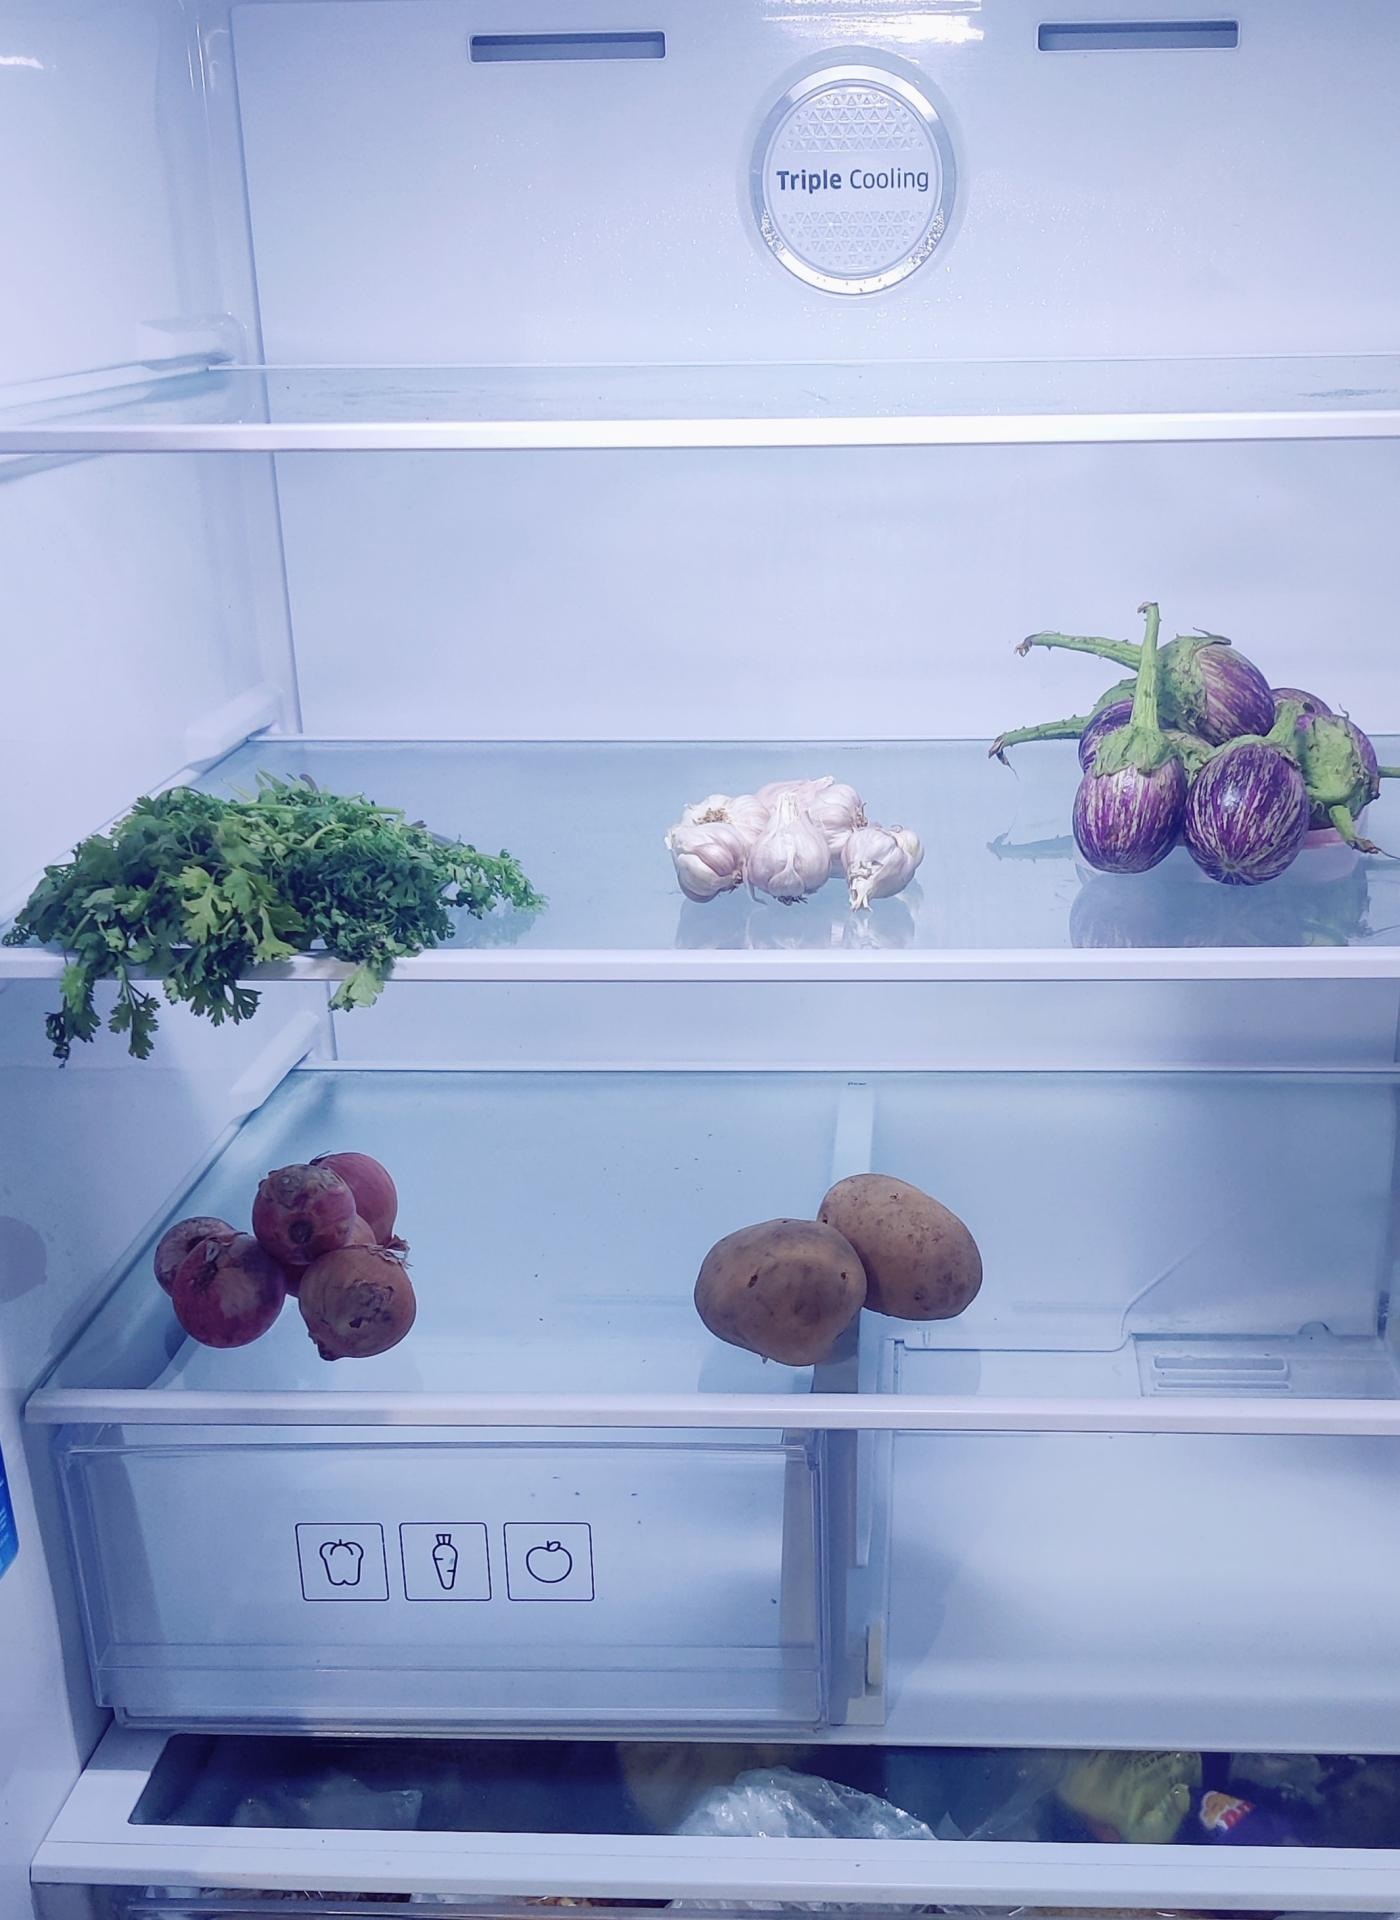brinjal: (1073, 623, 1373, 875)
coriander: (21, 783, 525, 990)
garlic: (668, 774, 909, 905)
onion: (160, 1152, 422, 1357)
potato: (690, 1164, 981, 1361)
